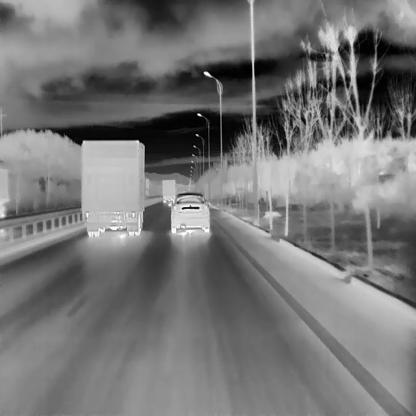car: (80, 138, 148, 237), (167, 191, 209, 233), (0, 167, 8, 217), (161, 179, 175, 203)
